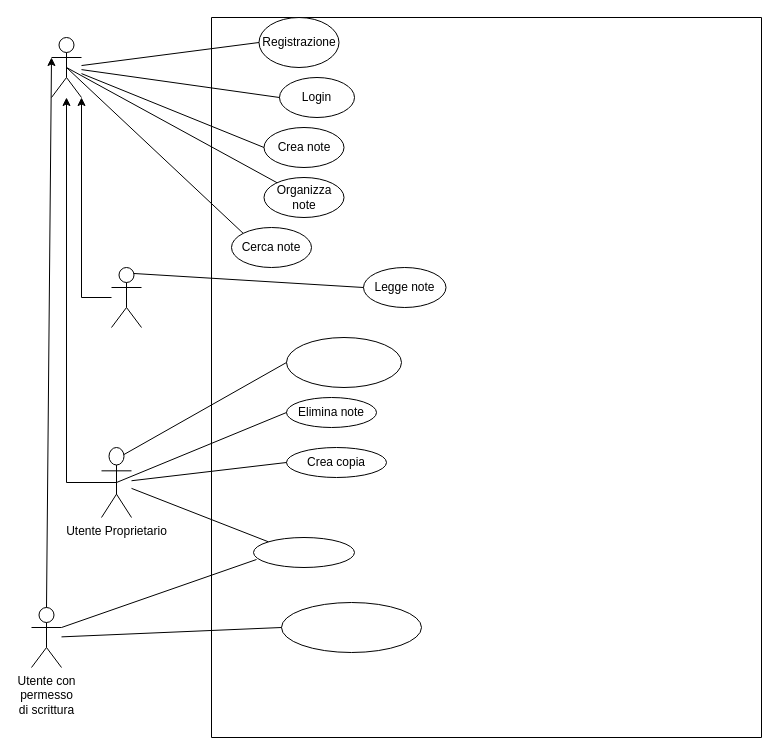
Some shapes in this 779 by 755 pixel diagram are drawn without their labels. The box of each missing label's shape, as (x1, y1, x2, y2) in pixels:
Elimina proprio utente dalla nota di scrittura: (280, 602, 422, 652)
Gestisce permessi di condivisione: (286, 336, 402, 388)
Modifica nota: (252, 536, 354, 568)
Utente: (50, 36, 82, 98)
Utente con permesso di lettura: (110, 266, 142, 328)
